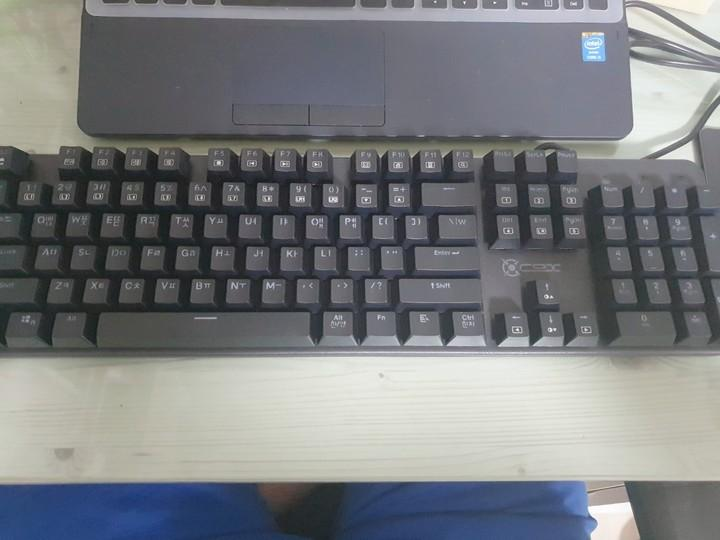keyboard: (0, 140, 719, 357)
